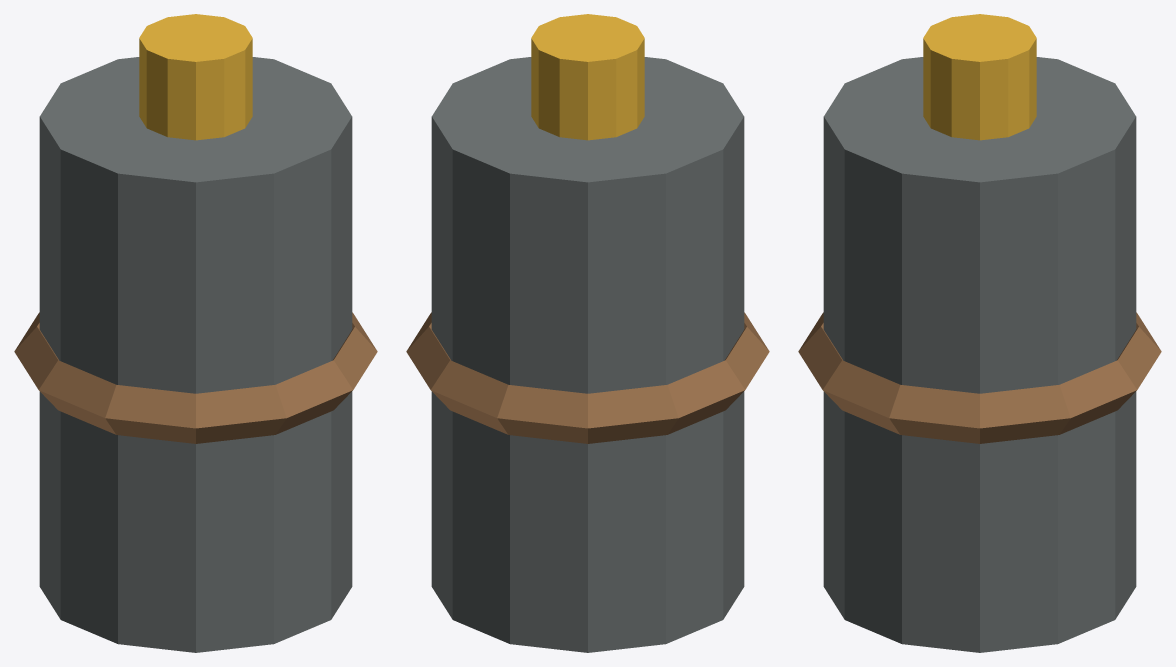
Rendered from mascate_cantil.glb.
3 views of the same model, side by side, from view 1: azimuth 30°, elevation 25°; view 2: azimuth 150°, elevation 25°; view 3: azimuth 270°, elevation 25° (orthographic).
Visible parts, largest first — view 1: mascate_cantil; view 2: mascate_cantil; view 3: mascate_cantil.
Boxes of the visible parts, x1=… form: mascate_cantil: x1=14, y1=14, x2=377, y2=652; mascate_cantil: x1=406, y1=14, x2=769, y2=652; mascate_cantil: x1=798, y1=14, x2=1161, y2=652.
Bounding box in the file's own units: 1.2 × 2 × 1.2.
